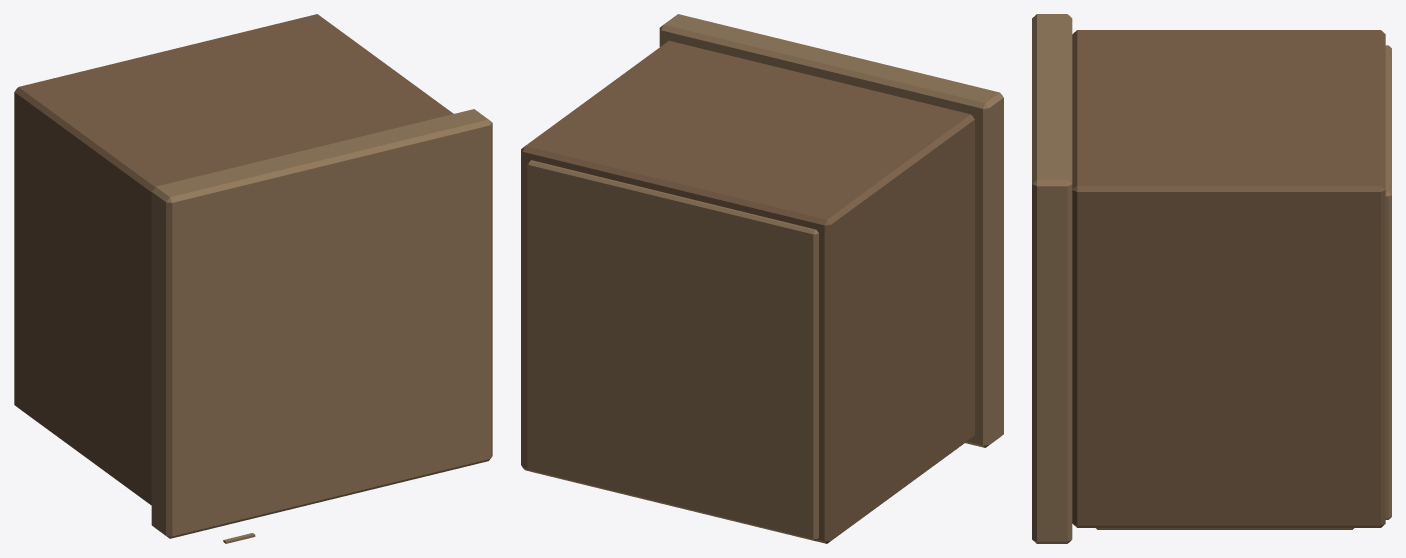
File: counter_segment.obj
3 views of the same model, side by side, from view 1: azimuth 30°, elevation 25°; view 2: azimuth 150°, elevation 25°; view 3: azimuth 270°, elevation 25° (orthographic). The views are drawn at different scales.
Parts seen in each view (by area): view 1: counter_segment; view 2: counter_segment; view 3: counter_segment.
Boxes of the visible parts, left/top/right/bottom form: counter_segment: left=14, top=14, right=492, bottom=543; counter_segment: left=521, top=14, right=1003, bottom=543; counter_segment: left=1032, top=14, right=1391, bottom=543.
Bounding box in the file's own units: 1 × 1.06 × 0.895.
1 material, 1 textured.
